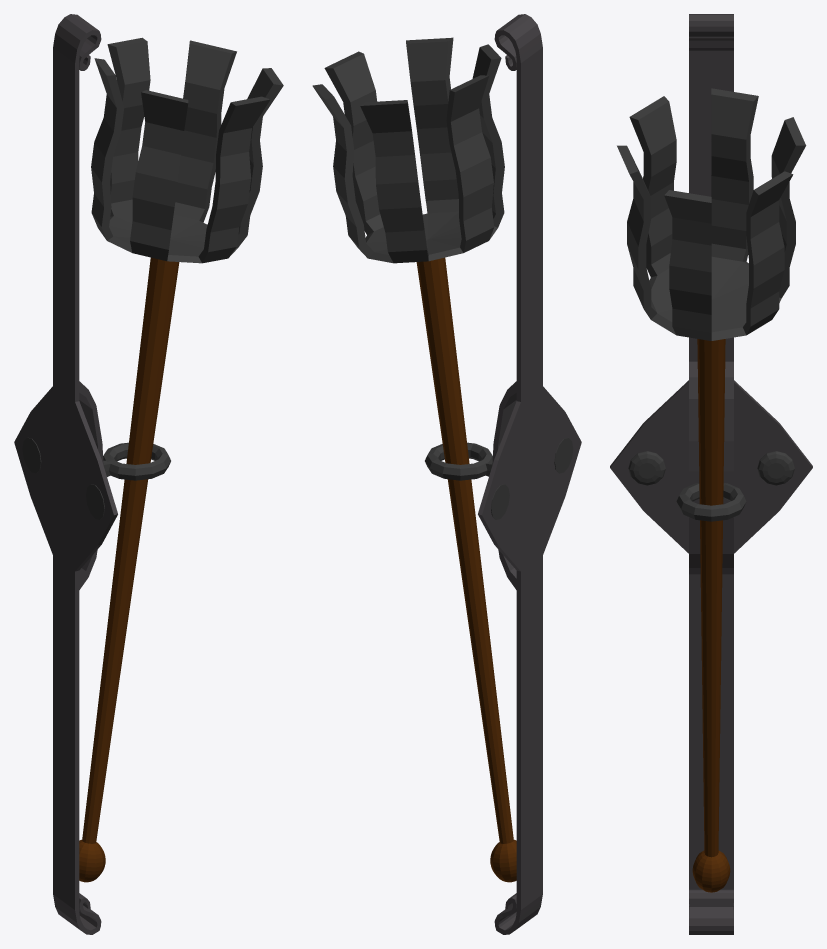
File: MedievalDungeonTorch.fbx
3 views of the same model, side by side, from view 1: azimuth 30°, elevation 25°; view 2: azimuth 150°, elevation 25°; view 3: azimuth 270°, elevation 25° (orthographic).
Parts seen in each view (by area): view 1: Cube; view 2: Cube; view 3: Cube.
Boxes of the visible parts, left/top/right/bottom form: Cube: left=14, top=14, right=283, bottom=934; Cube: left=312, top=14, right=581, bottom=934; Cube: left=610, top=14, right=812, bottom=934.
Bounding box in the file's own units: 12.03 × 50 × 10.
